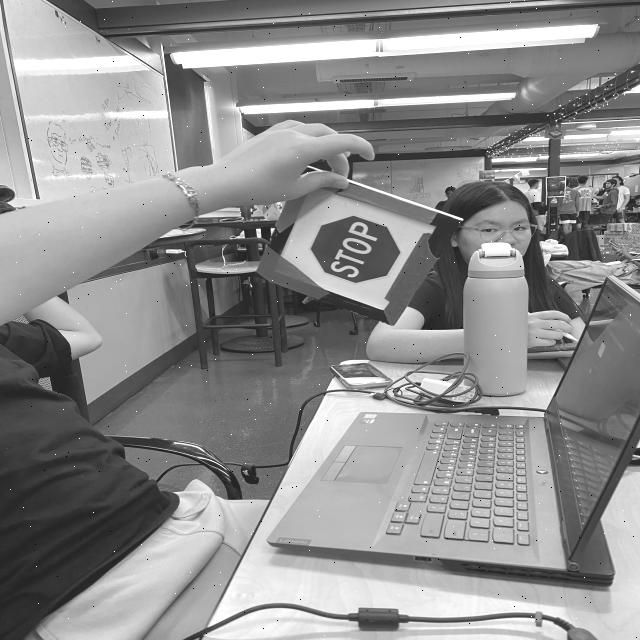stop: (307, 211, 406, 288)
